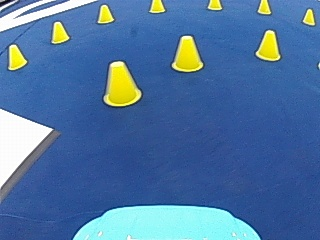cone: (102, 59, 140, 106), (171, 33, 203, 72), (255, 29, 280, 60), (6, 43, 27, 69), (50, 20, 69, 43), (96, 3, 114, 24), (301, 7, 315, 25), (256, 0, 270, 14), (149, 0, 164, 13), (207, 0, 221, 10)
